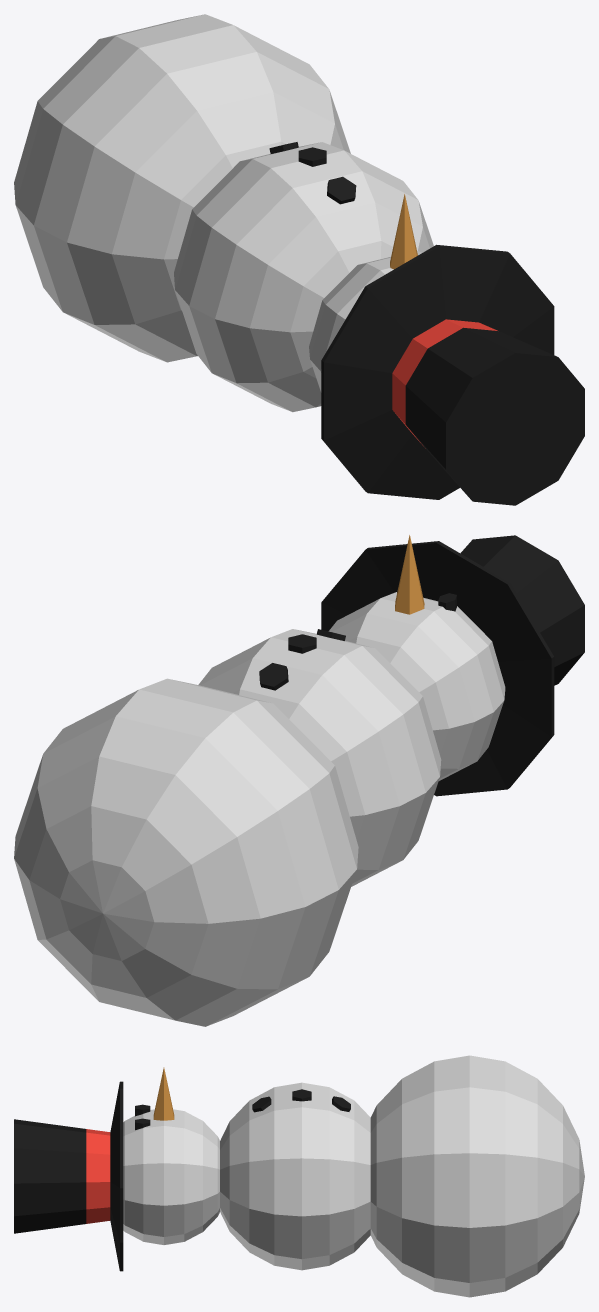
The model's file is Snowman_01.gltf.
3 views of the same model, one above another, from view 1: azimuth 30°, elevation 25°; view 2: azimuth 150°, elevation 25°; view 3: azimuth 270°, elevation 25° (orthographic). The views are drawn at different scales.
Parts seen in each view (by area): view 1: node-0; view 2: node-0; view 3: node-0.
Part boxes in pixels (x1=…): node-0: x1=14, y1=14, x2=584, y2=505; node-0: x1=14, y1=535, x2=584, y2=1026; node-0: x1=14, y1=1055, x2=584, y2=1297.
Bounding box in the file's own units: 145 × 140 × 339.
